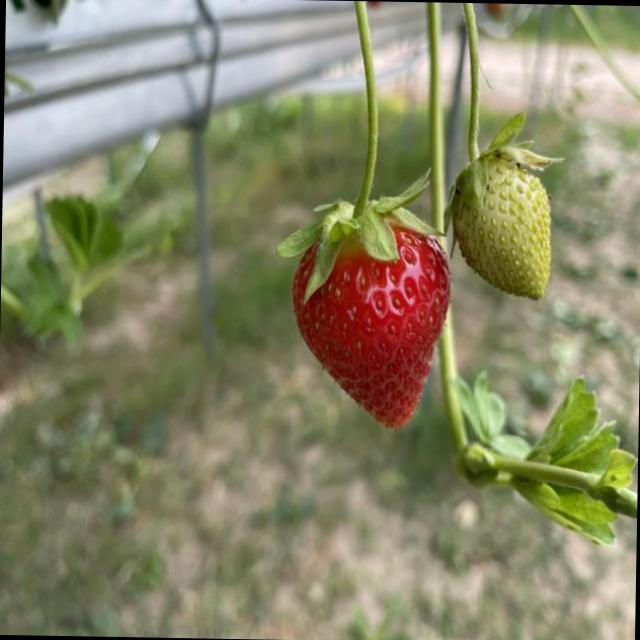stem: (275, 1, 438, 301), (463, 2, 480, 161)
strawberryNR: (451, 154, 550, 299)
strawberryR: (292, 226, 450, 428)
